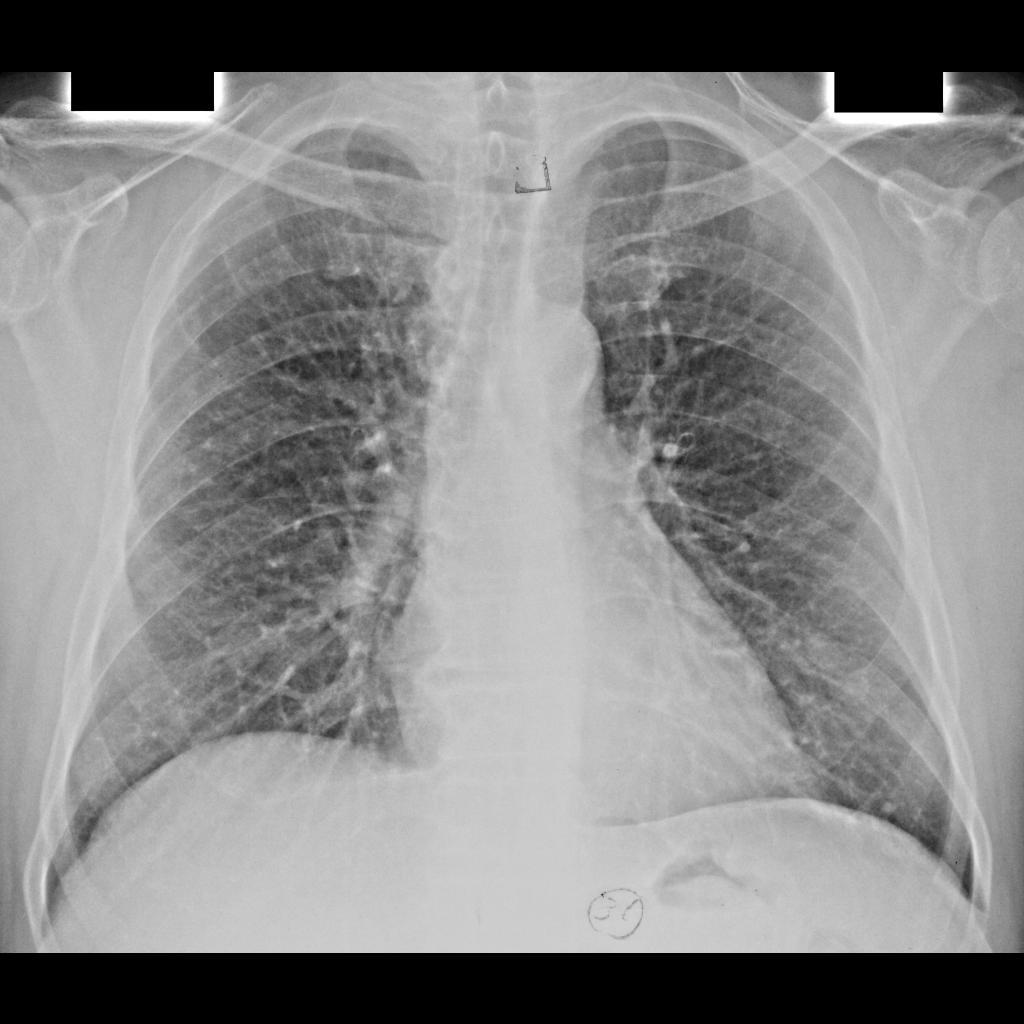Nodule: (856, 663, 905, 712)
